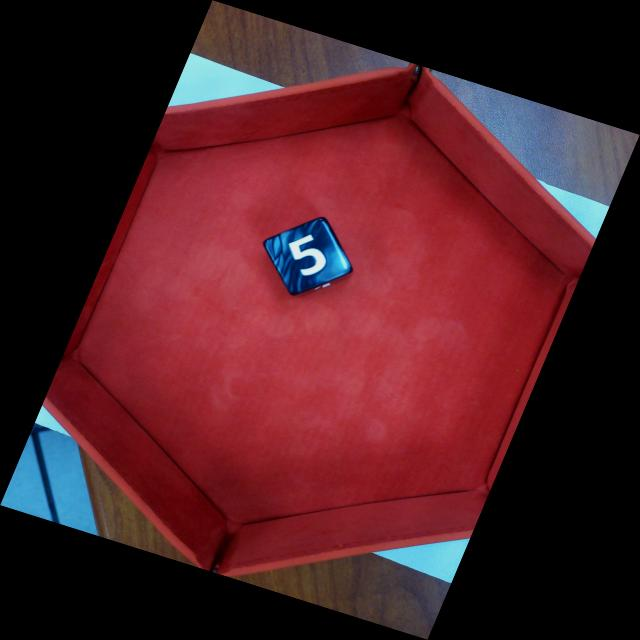dice: (268, 220, 355, 297)
